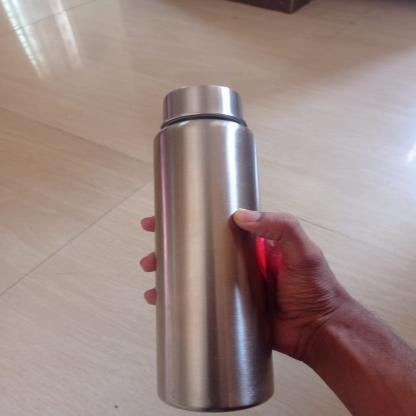bottle: (0, 0, 92, 205)
